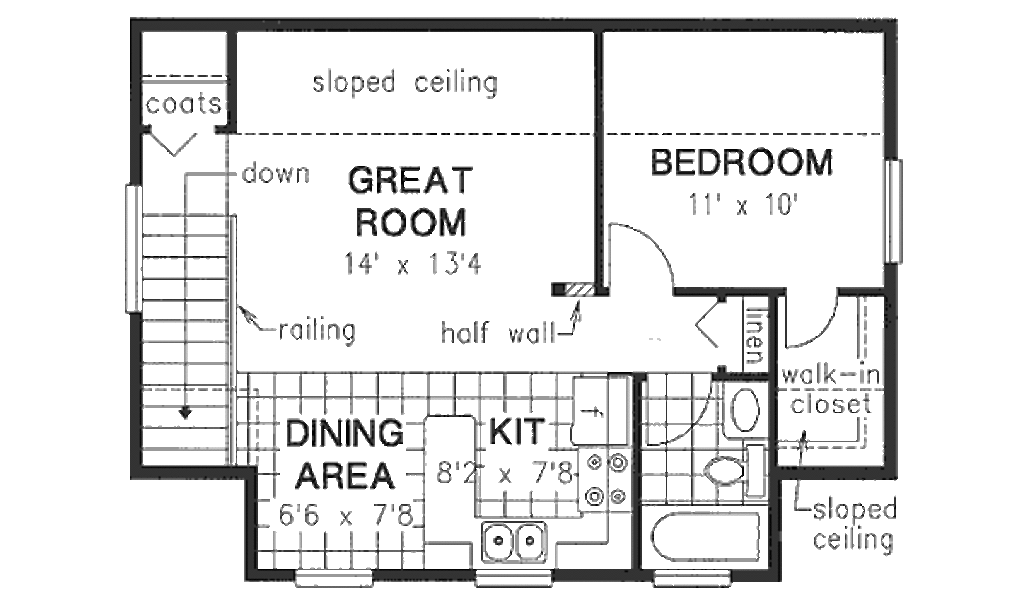door: (642, 369, 716, 448), (606, 221, 684, 294), (779, 290, 842, 350)
large_sink: (699, 451, 768, 495)
small_sink: (721, 375, 767, 445)
stairs: (138, 79, 253, 463)
tub: (646, 507, 777, 565)
twin_sink: (476, 510, 560, 562)
window: (119, 179, 144, 319), (881, 159, 911, 269), (641, 564, 739, 596), (466, 565, 563, 588), (287, 567, 378, 590)
